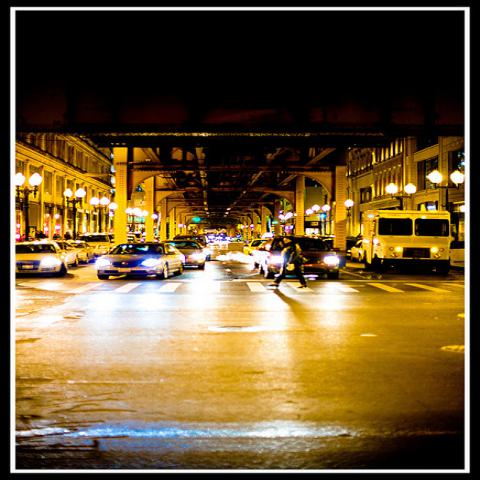car: (94, 241, 185, 280), (257, 235, 340, 277), (15, 240, 68, 275), (161, 240, 206, 270), (47, 239, 80, 267), (80, 233, 115, 255), (69, 240, 95, 262), (172, 232, 207, 248), (243, 238, 269, 256), (350, 240, 365, 262), (229, 235, 245, 243)
truck: (362, 208, 453, 277), (243, 238, 269, 255)
